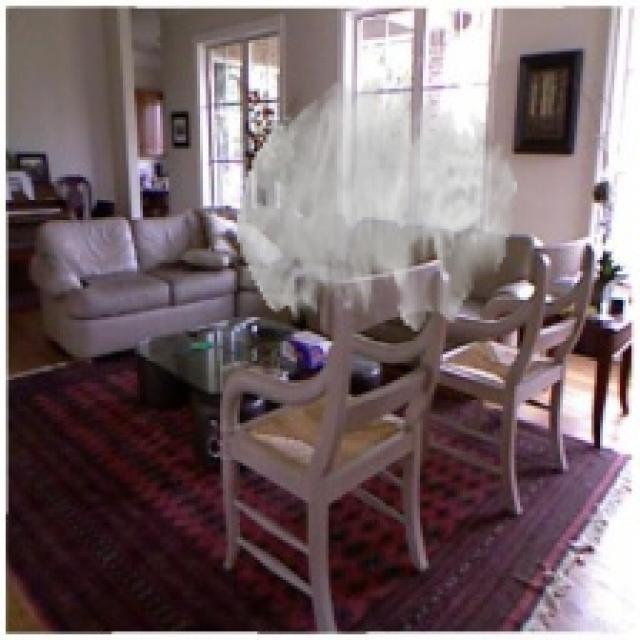Smoke: (237, 77, 517, 332)
